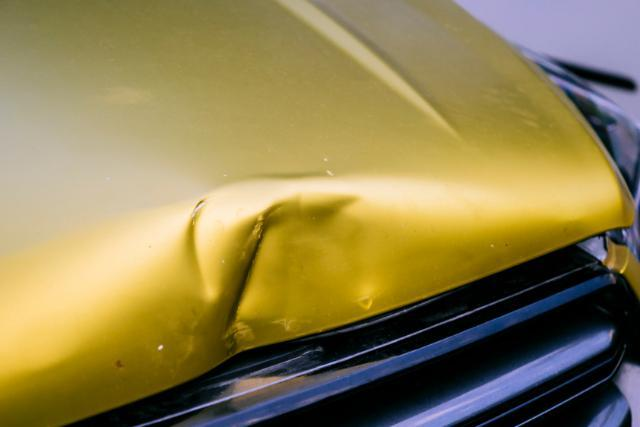Bonnet: (0, 0, 640, 366)
